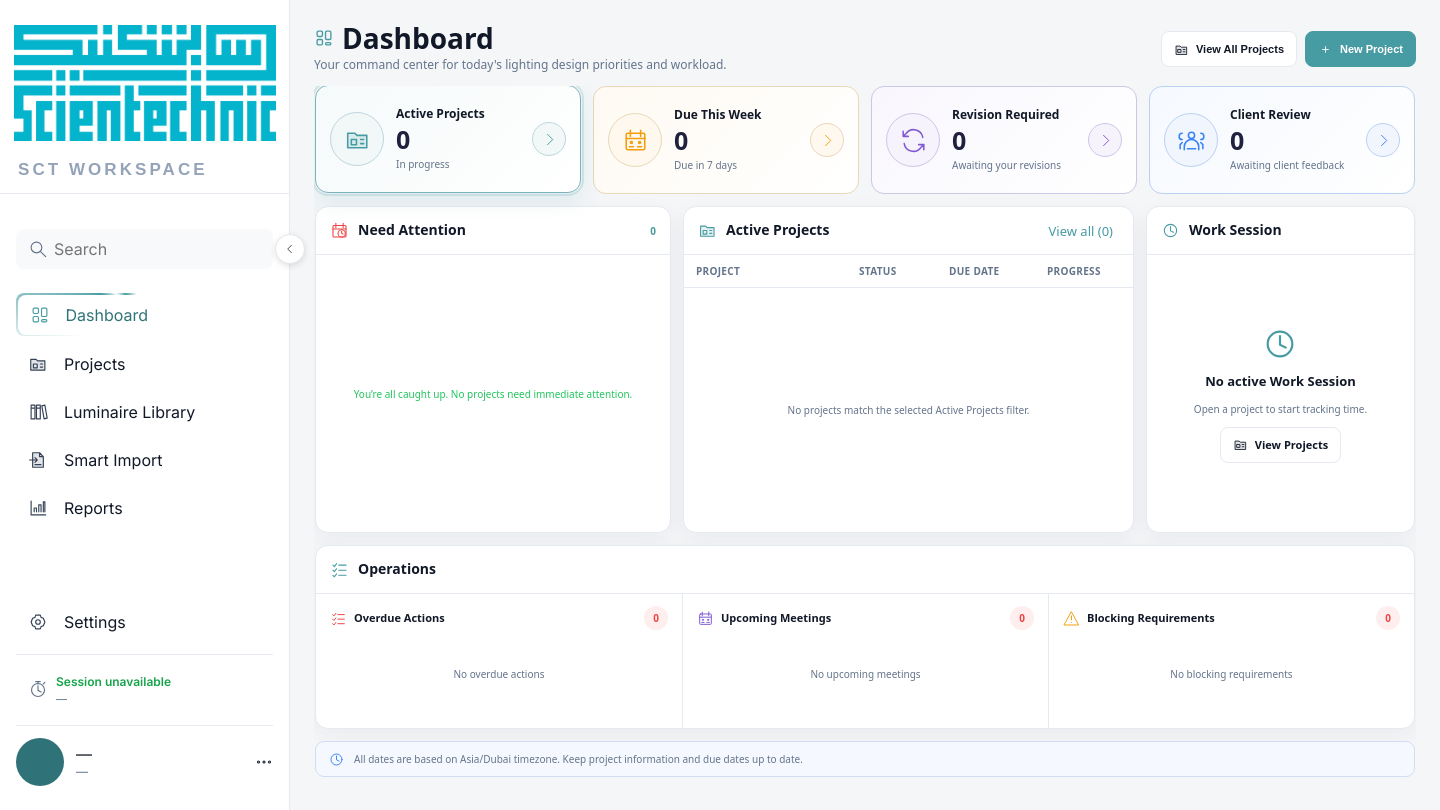
Test: DashboardPage › shows truthful positive and filtered empty states
This screenshot has width=1440, height=810.
Check: the text "You’re all caught up. No projects need immediate attention." is shown, box x1=354 y1=386 x2=632 y2=400
Step 1. Click the button with aria-label "Client Review: 0" → point(1191, 140), box x1=1149 y1=86 x2=1415 y2=194
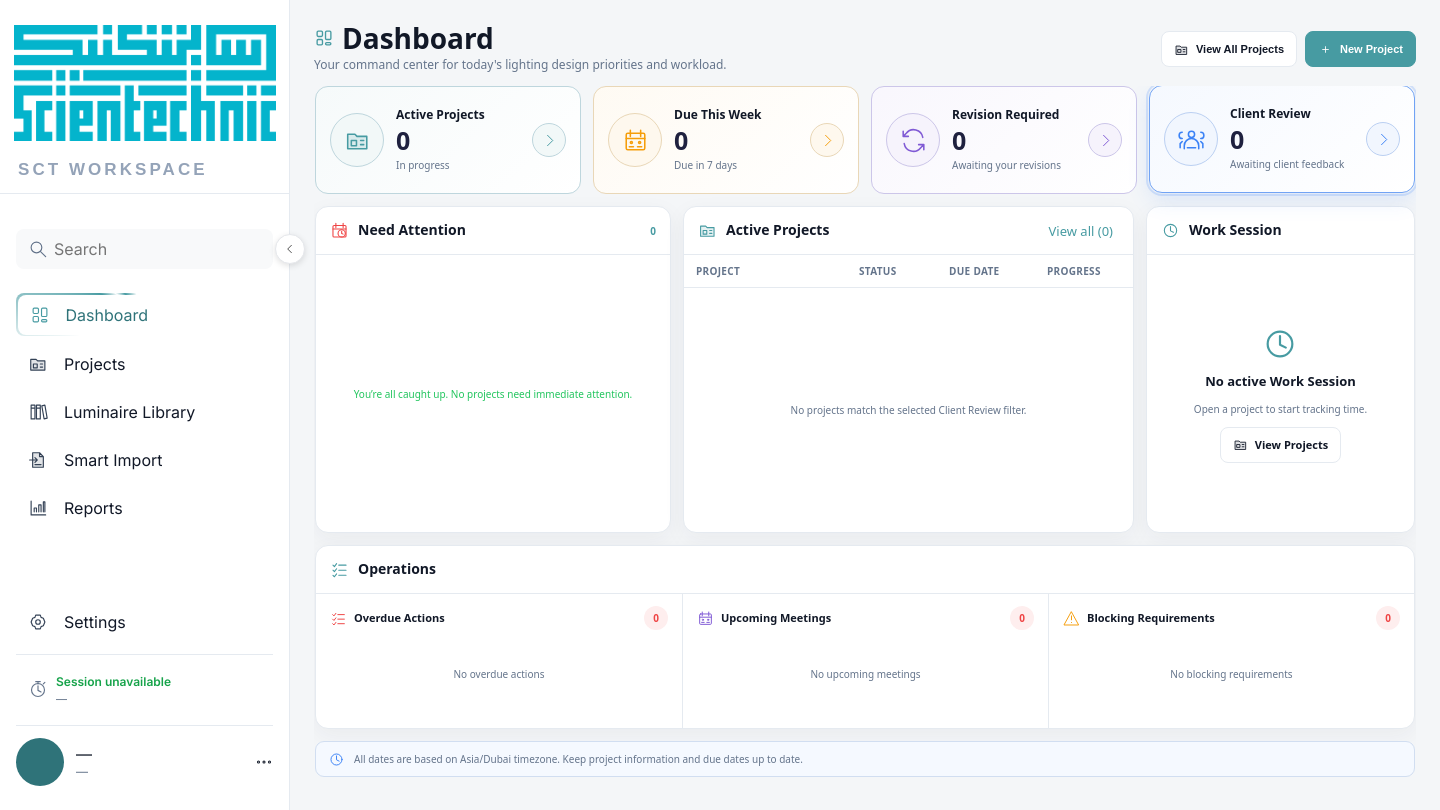
Check: the text "No projects match the selected Client Review filter." is shown, box x1=791 y1=403 x2=1026 y2=417
